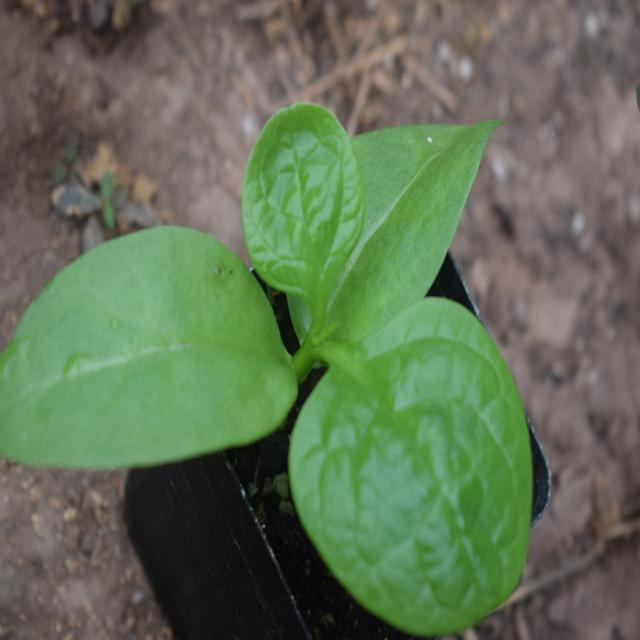Ceylon spinach: (9, 98, 534, 600)
